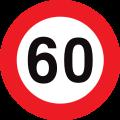Speed Limit -60-: (22, 30, 99, 88)
